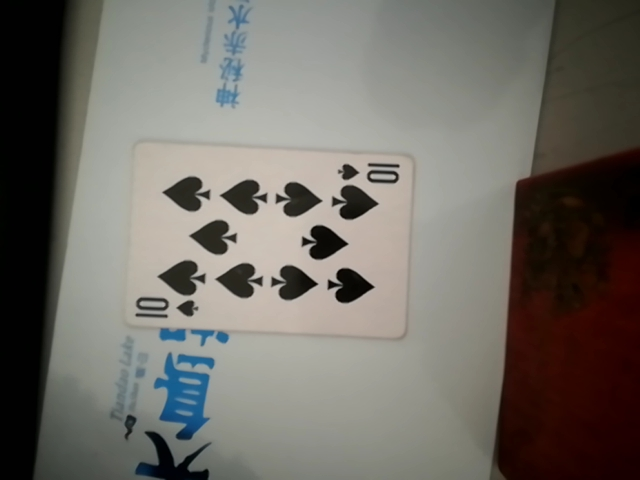ht 10: (127, 139, 415, 340)
